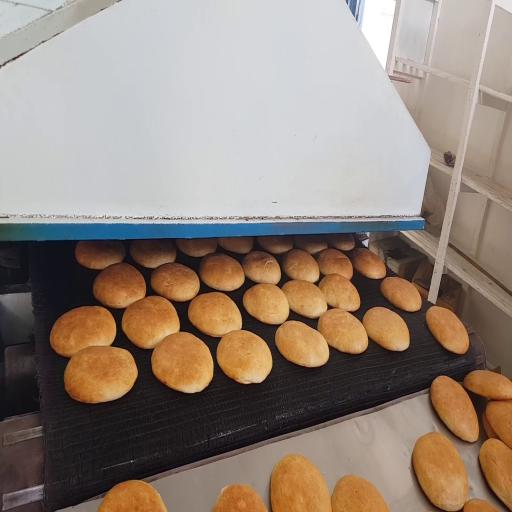bread: (412, 432, 468, 511), (64, 346, 137, 403), (152, 332, 213, 393), (50, 306, 116, 357), (271, 455, 331, 511), (430, 376, 479, 442), (122, 296, 179, 348), (217, 330, 272, 383), (275, 321, 329, 367), (188, 292, 242, 337), (93, 263, 146, 308), (479, 439, 511, 510), (318, 309, 368, 354), (426, 306, 469, 354), (332, 475, 389, 511), (98, 481, 166, 511), (363, 307, 409, 351), (243, 284, 289, 324), (151, 263, 199, 301), (199, 253, 245, 291), (282, 281, 327, 318), (319, 274, 360, 311), (75, 241, 125, 270), (464, 370, 511, 400), (213, 485, 267, 511), (380, 277, 421, 311), (130, 239, 176, 268), (242, 251, 281, 284), (282, 249, 319, 282), (486, 401, 511, 448), (316, 249, 353, 279), (352, 248, 386, 279), (176, 238, 217, 257), (257, 236, 293, 254), (293, 235, 327, 254), (217, 237, 254, 254), (326, 233, 355, 251), (463, 499, 498, 511), (482, 410, 497, 438)
